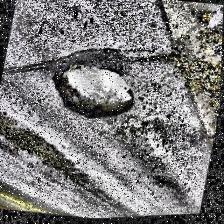pothole: (42, 56, 142, 130)
